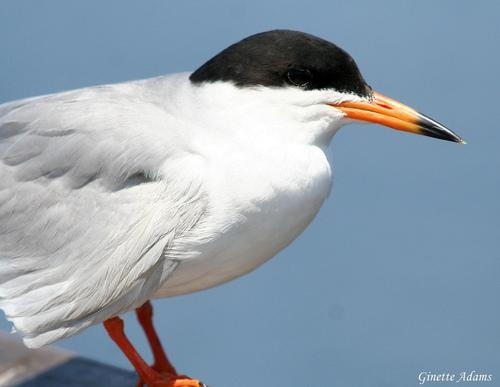bird: (2, 31, 467, 379)
